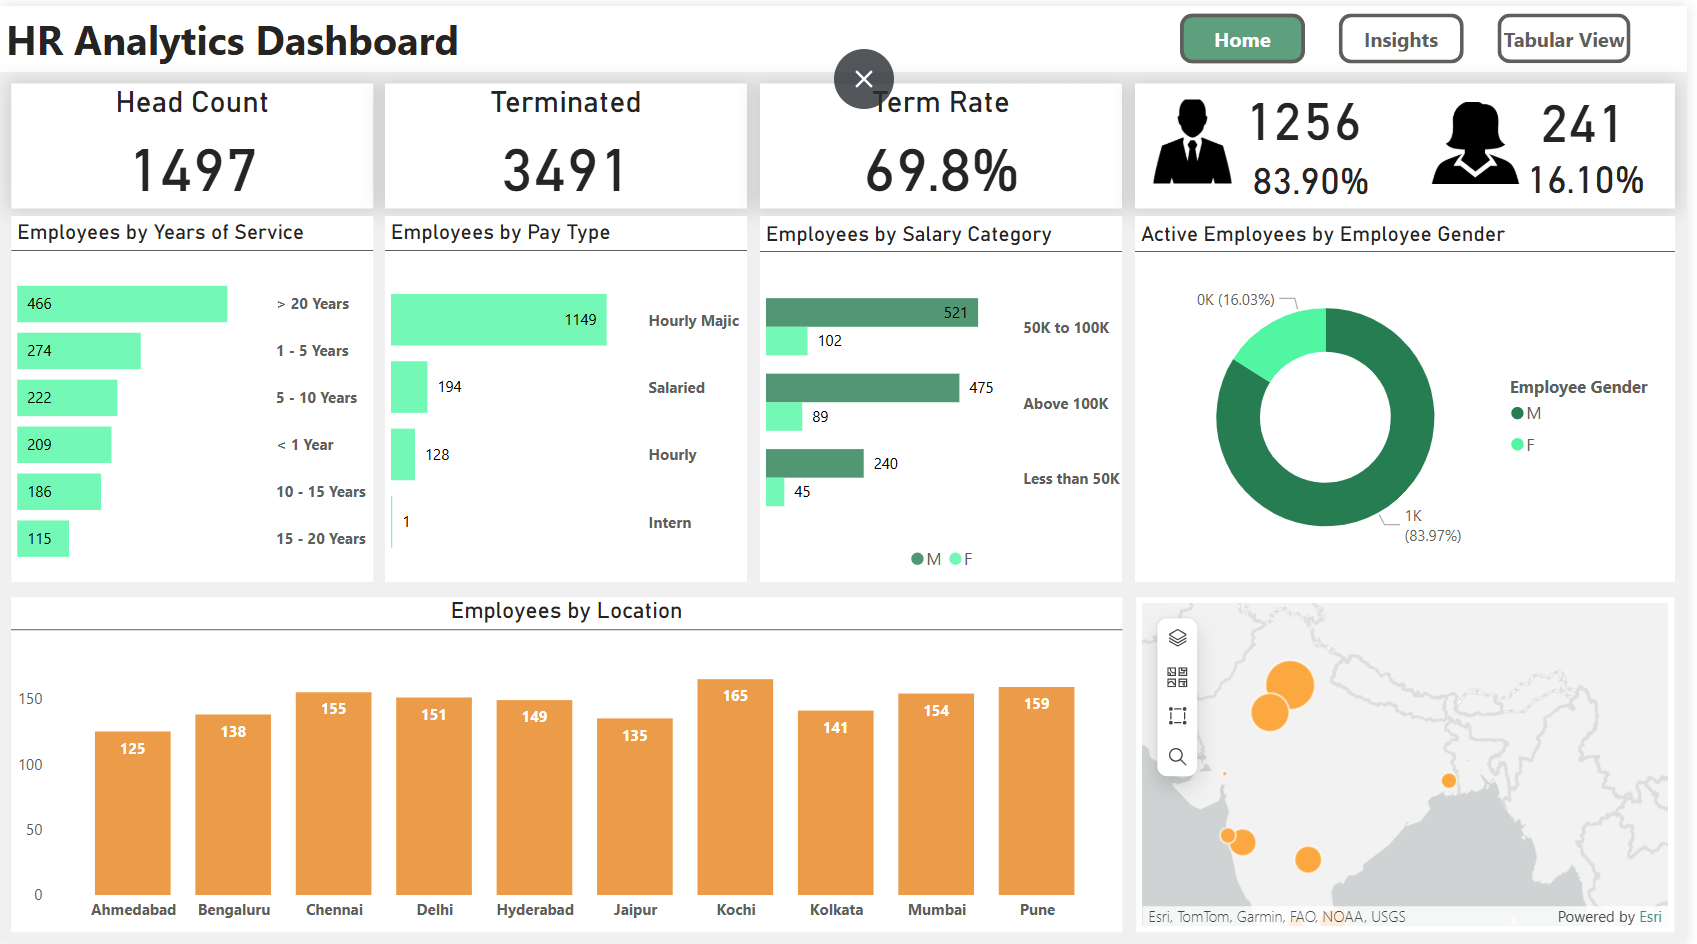

Layout of this report page (visuals, bound fields, positions):
{"tool":"powerbi","page":{"name":"Home","canvas":[1350,750],"ordinal":0},"visuals":[{"type":"textbox","box":[0,0,1350,52.5],"z":0},{"type":"card","title":"Head Count","fields":{"Values":["Employees.EmpCount"]},"box":[8.8,61.5,290,100],"z":1000},{"type":"card","title":"Terminated","fields":{"Values":["Employees.Seps"]},"box":[307.5,61.5,290,100],"z":2000},{"type":"card","title":"Term Rate","fields":{"Values":["Employees.Termination Rate (%)"]},"box":[607.5,61.5,290,100],"z":3000},{"type":"shape","box":[907.9,61.5,432.5,100],"z":4000,"group":"g1"},{"type":"group","id":"g1","title":"M&F Card","box":[864.1,46.5,476.2,131.2],"z":4000},{"type":"card","fields":{"Values":["Employees.Male Count"]},"box":[964.1,46.5,157.5,82.5],"z":5000,"group":"g1"},{"type":"barChart","title":"Employees by Years of Service","fields":{"Y":["Employees.Active Employees"],"Category":["Employees.Year of Service"]},"box":[8.8,167.5,290,293.8],"z":5000},{"type":"card","fields":{"Values":["Employees.Female Count"]},"box":[1203.1,47.7,127.5,82.5],"z":6000,"group":"g1"},{"type":"barChart","title":"Employees by Pay Type","fields":{"Y":["Employees.Active Employees"],"Category":["Employees.Pay Type Name"]},"box":[307.5,167.5,290,293.8],"z":6000},{"type":"card","fields":{"Values":["Employees.Female Pct"]},"box":[1198.1,96.5,141.2,81.2],"z":7000,"group":"g1"},{"type":"clusteredBarChart","title":"Employees by Salary Category","fields":{"Category":["Employees.Salary Bucket"],"Y":["Employees.Active Employees"],"Series":["Employees.Employee Gender"]},"box":[607.5,167.5,290,293.8],"z":7000},{"type":"card","fields":{"Values":["Employees.Male Pct"]},"box":[984.1,107.7,131.2,60],"z":8000,"group":"g1"},{"type":"donutChart","fields":{"Y":["Employees.Active Employees"],"Category":["Employees.Employee Gender"]},"box":[907.5,167.5,432.5,293.8],"z":8000},{"type":"image","box":[864.1,69,180,77.5],"z":9000,"group":"g1"},{"type":"esriVisual","fields":{"Location":["Employees.Location"],"Size":["Sum(Employees.Salary)"]},"box":[908.8,472.5,431.2,268.8],"z":9000},{"type":"image","box":[1078.1,71.5,206.2,76.2],"z":10000,"group":"g1"},{"type":"columnChart","title":"Employees by Location","fields":{"Category":["Employees.Location","Employees.HK Job Function"],"Y":["Employees.Active Employees"]},"box":[8.8,472.5,888.8,268.8],"z":10000},{"type":"actionButton","box":[944,6,100,40.5],"z":11000},{"type":"actionButton","box":[1070.8,6,100,40.5],"z":12000},{"type":"actionButton","box":[1197.6,6,107.1,40.5],"z":13000}]}

Visuals, with their boxes in screenshot pixels (x1, y1, x2, y2), scaled from the page's 1350x750 canvas onto the 1697x944 screenshot:
textbox: [left=0, top=0, right=1696, bottom=66]
"Head Count" card: [left=11, top=77, right=376, bottom=203]
"Terminated" card: [left=387, top=77, right=751, bottom=203]
"Term Rate" card: [left=764, top=77, right=1128, bottom=203]
shape: [left=1141, top=77, right=1685, bottom=203]
"M&F Card" group: [left=1086, top=59, right=1685, bottom=224]
card - Employees.Male Count: [left=1212, top=59, right=1410, bottom=162]
"Employees by Years of Service" barChart: [left=11, top=211, right=376, bottom=581]
card - Employees.Female Count: [left=1512, top=60, right=1673, bottom=164]
"Employees by Pay Type" barChart: [left=387, top=211, right=751, bottom=581]
card - Employees.Female Pct: [left=1506, top=121, right=1684, bottom=224]
"Employees by Salary Category" clusteredBarChart: [left=764, top=211, right=1128, bottom=581]
card - Employees.Male Pct: [left=1237, top=136, right=1402, bottom=211]
donutChart - Employees.Active Employees x Employees.Employee Gender: [left=1141, top=211, right=1684, bottom=581]
image: [left=1086, top=87, right=1312, bottom=184]
esriVisual - Employees.Location x Sum(Employees.Salary): [left=1142, top=595, right=1684, bottom=933]
image: [left=1355, top=90, right=1614, bottom=186]
"Employees by Location" columnChart: [left=11, top=595, right=1128, bottom=933]
actionButton: [left=1187, top=8, right=1312, bottom=59]
actionButton: [left=1346, top=8, right=1472, bottom=59]
actionButton: [left=1505, top=8, right=1640, bottom=59]
